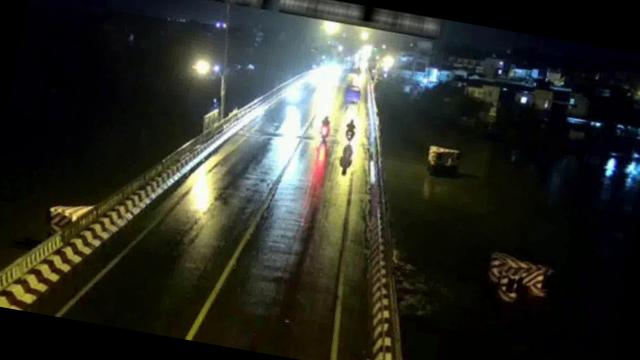Bike: (344, 116, 362, 142), (319, 114, 334, 139)
